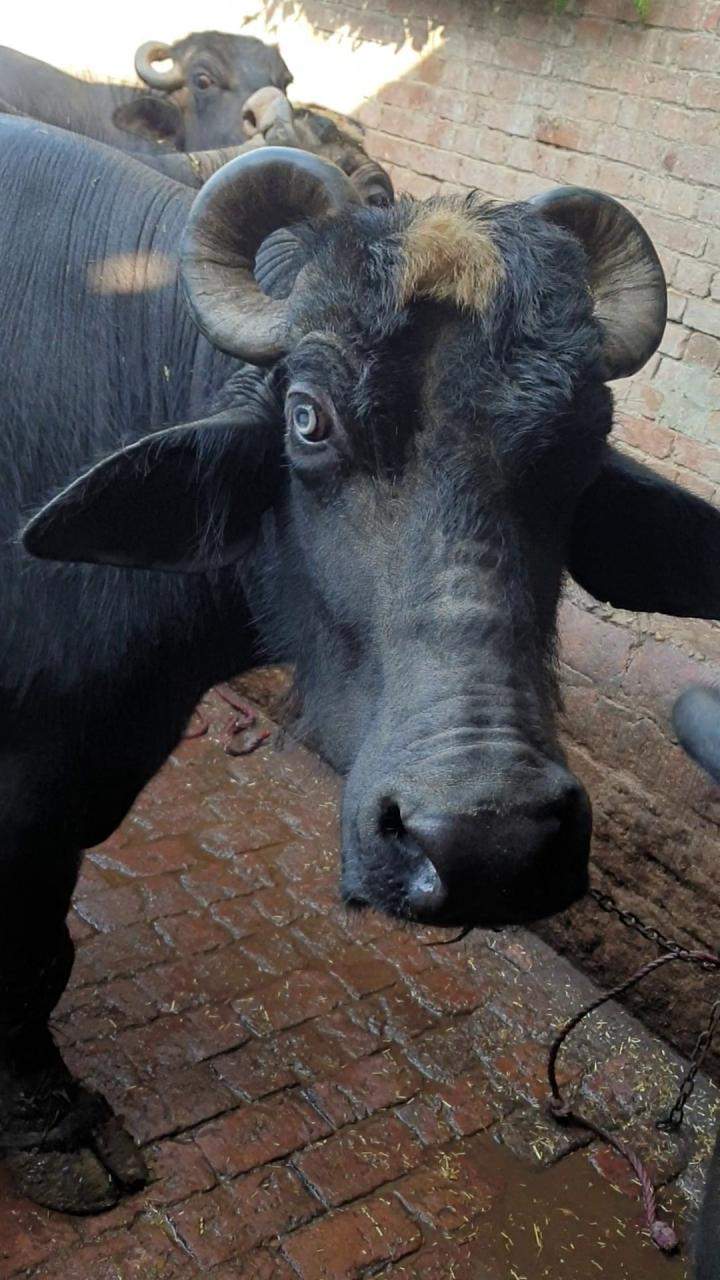cows: (286, 242, 616, 936), (153, 0, 335, 145)
